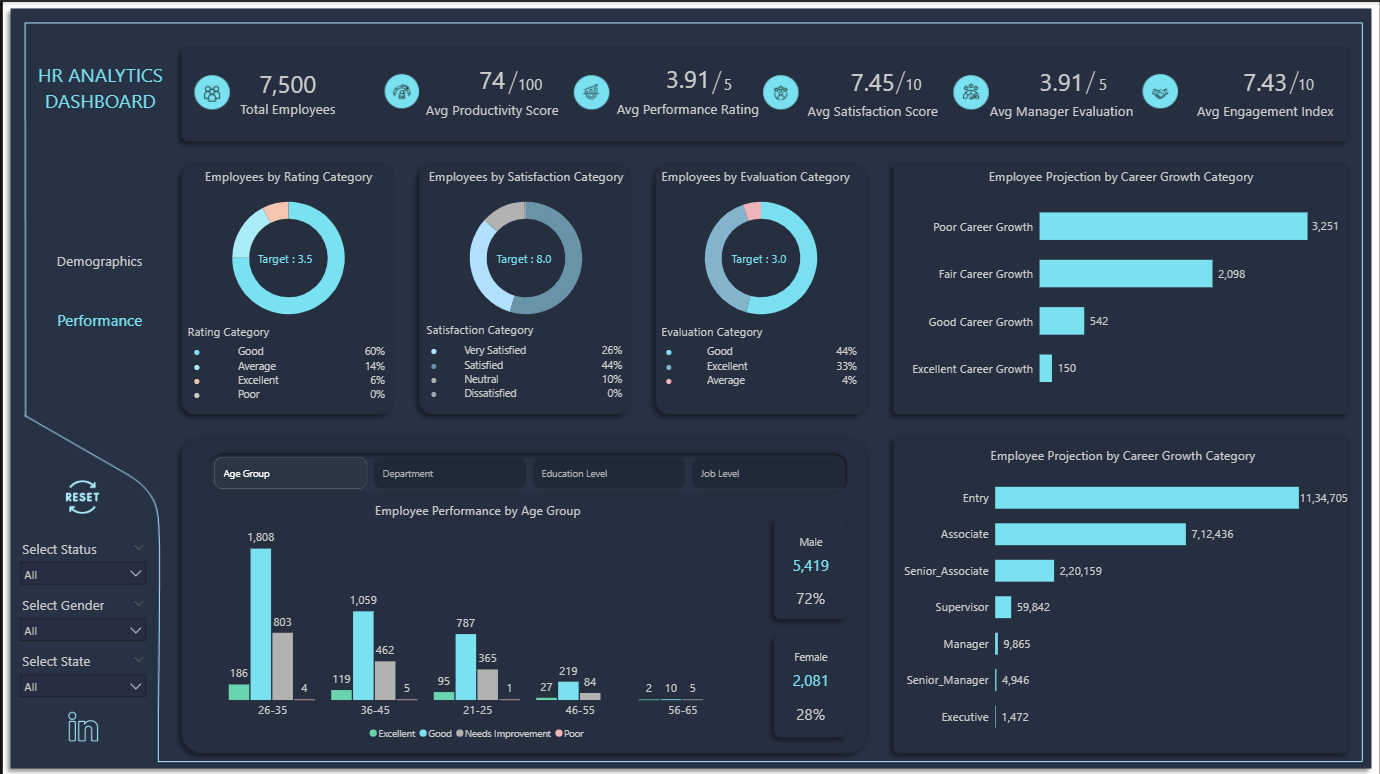

Layout of this report page (visuals, bound fields, positions):
{"tool":"powerbi","page":{"name":"Performance","canvas":[1920,1080],"ordinal":3},"visuals":[{"type":"tableEx","fields":{"Values":["Measure_table.Icon","Dim_monthly_performance.Satisfaction_Category","Measure_table.Total Employees %"]},"box":[586.7,441.7,288.3,136.7],"z":0},{"type":"tableEx","fields":{"Values":["Measure_table.Icon","Dim_monthly_performance.Evaluation Category","Measure_table.Total Employees %"]},"box":[913.6,442.3,287.5,122.5],"z":1000},{"type":"cardVisual","fields":{"Data":["Measure_table.Total Employee"]},"box":[314,62.8,167.4,127.3],"z":2000},{"type":"cardVisual","fields":{"Data":["Measure_table.Avg Productivity Score"]},"box":[551.2,66.3,263.4,115.1],"z":3000},{"type":"cardVisual","fields":{"Data":["Measure_table.Avg Performance Rating"]},"box":[833.7,59.3,244.2,127.3],"z":4000},{"type":"cardVisual","fields":{"Data":["Measure_table.Avg Satisfaction Score"]},"box":[1093.6,62.8,240.7,127.3],"z":5000},{"type":"donutChart","title":"Employees by Satisfaction Category","fields":{"Y":["Measure_table.Total Employees"],"Category":["Dim_monthly_performance.Satisfaction_Category"]},"box":[586,232,287.8,228.5],"z":6000},{"type":"donutChart","title":"Employees by Evaluation Category","fields":{"Y":["Measure_table.Total Employees"],"Category":["Dim_monthly_performance.Evaluation Category"]},"box":[914,232,287.8,228.5],"z":7000},{"type":"advancedSlicerVisual","fields":{"Values":["Demographics.Demographics"]},"box":[289.5,629.7,893,55.8],"z":8000},{"type":"textbox","box":[914,443,164,38.4],"z":9000},{"type":"clusteredColumnChart","fields":{"Category":["Employees.Age Group"],"Y":["Measure_table.Total Employees"],"Series":["Dim_monthly_performance.Overall_Performance_Category"]},"box":[252.9,697.7,819.8,341.9],"z":10000},{"type":"cardVisual","fields":{"Data":["Measure_table.Male"]},"box":[1072.7,718.6,109.9,104.7],"z":11000},{"type":"cardVisual","fields":{"Data":["Measure_table.Male %"]},"box":[1072.7,791.9,109.9,61],"z":12000},{"type":"cardVisual","fields":{"Data":["Measure_table.Female"]},"box":[1072.7,879.1,109.9,104.7],"z":13000},{"type":"cardVisual","fields":{"Data":["Measure_table.Female %"]},"box":[1072.7,954.1,109.9,61],"z":14000},{"type":"textbox","box":[586,441.3,164,38.4],"z":15000},{"type":"donutChart","title":"Employees by Rating Category","fields":{"Y":["Measure_table.Total Employees"],"Category":["Dim_monthly_performance.Rating Category"]},"box":[254.7,232,287.8,228.5],"z":16000},{"type":"tableEx","fields":{"Values":["Measure_table.Icon","Dim_monthly_performance.Rating Category","Measure_table.Total Employees %"]},"box":[254.7,443,287.8,123.8],"z":17000},{"type":"textbox","box":[252.9,443,164,38.4],"z":18000},{"type":"shape","box":[697.7,95.6,27.9,33.1],"z":19000},{"type":"textbox","box":[713.4,94.8,45.3,48.8],"z":20000},{"type":"shape","box":[982,95.6,27.9,33.1],"z":21000},{"type":"textbox","box":[1001.2,94.8,29.7,48.8],"z":22000},{"type":"shape","box":[1238.4,95.6,27.9,33.1],"z":23000},{"type":"textbox","box":[1254.1,94.8,45.3,48.8],"z":24000},{"type":"cardVisual","fields":{"Data":["Measure_table.Avg Manager Evaluation"]},"box":[1357,62.8,240.7,127.3],"z":25000},{"type":"cardVisual","fields":{"Data":["Measure_table.Avg Engagement Index"]},"box":[1641.3,62.8,240.7,127.3],"z":26000},{"type":"shape","box":[1503.5,95.9,27.9,33.1],"z":27000},{"type":"textbox","box":[1524.4,94.2,29.7,48.8],"z":28000},{"type":"shape","box":[1787.8,95.9,27.9,33.1],"z":29000},{"type":"textbox","box":[1801.7,94.8,45.3,48.8],"z":30000},{"type":"clusteredBarChart","title":"Employee Projection by Career Growth Category","fields":{"Y":["Measure_table.Total Employees"],"Category":["Dim_monthly_performance.Career_Growth_Category"]},"box":[1250.6,232,619.2,333.1],"z":31000},{"type":"clusteredBarChart","title":"Employee Projection by Career Growth Category","fields":{"Y":["Sum(Dim_monthly_performance.Monthly_Bonus)"],"Category":["Employees.Job_Level"]},"box":[1243.6,620.9,638.4,418.6],"z":32000},{"type":"pageNavigator","box":[31.4,324.4,207.6,155.2],"z":33000},{"type":"slicer","title":"Select Status","fields":{"Values":["Employees.Staus"]},"box":[14,744.8,195.3,78.5],"z":34000},{"type":"slicer","title":"Select Status","fields":{"Values":["Employees.Gender"]},"box":[14,823.3,195.3,78.5],"z":35000},{"type":"slicer","title":"Select Status","fields":{"Values":["Employees.State"]},"box":[14,901.7,195.3,78.5],"z":36000},{"type":"image","box":[76.7,985.5,69.8,51],"z":37000},{"type":"image","box":[75,662.8,71.5,55.8],"z":38000},{"type":"textbox","box":[33.1,78.5,205.8,102.9],"z":39000},{"type":"textbox","box":[350.6,341.9,94.2,33.1],"z":40000},{"type":"textbox","box":[683.7,341.9,94.2,33.1],"z":41000},{"type":"textbox","box":[1011.6,341.9,94.2,33.1],"z":42000}]}

Visuals, with their boxes in screenshot pixels (x1, y1, x2, y2), scaled from the page's 1920x1080 canvas onto the 1380x774 screenshot:
tableEx - Measure_table.Icon x Dim_monthly_performance.Satisfaction_Category: 422, 317, 629, 415
tableEx - Measure_table.Icon x Dim_monthly_performance.Evaluation Category: 657, 317, 863, 405
cardVisual - Measure_table.Total Employee: 226, 45, 346, 136
cardVisual - Measure_table.Avg Productivity Score: 396, 48, 585, 130
cardVisual - Measure_table.Avg Performance Rating: 599, 42, 775, 134
cardVisual - Measure_table.Avg Satisfaction Score: 786, 45, 959, 136
"Employees by Satisfaction Category" donutChart: 421, 166, 628, 330
"Employees by Evaluation Category" donutChart: 657, 166, 864, 330
advancedSlicerVisual - Demographics.Demographics: 208, 451, 850, 491
textbox: 657, 317, 775, 345
clusteredColumnChart - Employees.Age Group x Measure_table.Total Employees: 182, 500, 771, 745
cardVisual - Measure_table.Male: 771, 515, 850, 590
cardVisual - Measure_table.Male %: 771, 568, 850, 611
cardVisual - Measure_table.Female: 771, 630, 850, 705
cardVisual - Measure_table.Female %: 771, 684, 850, 727
textbox: 421, 316, 539, 344
"Employees by Rating Category" donutChart: 183, 166, 390, 330
tableEx - Measure_table.Icon x Dim_monthly_performance.Rating Category: 183, 317, 390, 406
textbox: 182, 317, 300, 345
shape: 501, 69, 522, 92
textbox: 513, 68, 545, 103
shape: 706, 69, 726, 92
textbox: 720, 68, 741, 103
shape: 890, 69, 910, 92
textbox: 901, 68, 934, 103
cardVisual - Measure_table.Avg Manager Evaluation: 975, 45, 1148, 136
cardVisual - Measure_table.Avg Engagement Index: 1180, 45, 1353, 136
shape: 1081, 69, 1101, 92
textbox: 1096, 68, 1117, 102
shape: 1285, 69, 1305, 92
textbox: 1295, 68, 1328, 103
"Employee Projection by Career Growth Category" clusteredBarChart: 899, 166, 1344, 405
"Employee Projection by Career Growth Category" clusteredBarChart: 894, 445, 1353, 745
pageNavigator: 23, 232, 172, 344
"Select Status" slicer: 10, 534, 150, 590
"Select Status" slicer: 10, 590, 150, 646
"Select Status" slicer: 10, 646, 150, 702
image: 55, 706, 105, 743
image: 54, 475, 105, 515
textbox: 24, 56, 172, 130
textbox: 252, 245, 320, 269
textbox: 491, 245, 559, 269
textbox: 727, 245, 795, 269
